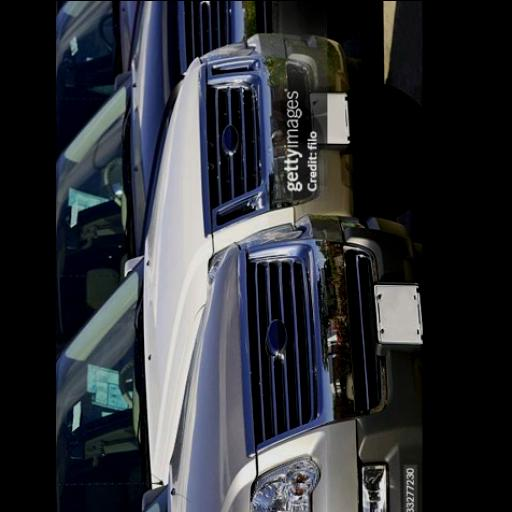car: (87, 269, 114, 302), (59, 100, 84, 114), (89, 227, 109, 241), (69, 39, 80, 55), (95, 34, 106, 47), (104, 79, 111, 96), (118, 265, 128, 275), (67, 76, 76, 85), (56, 119, 59, 124), (148, 496, 152, 498), (56, 113, 58, 116), (60, 83, 62, 85), (128, 262, 129, 262)
suv: (56, 34, 421, 512), (56, 0, 368, 349), (143, 216, 421, 512), (56, 0, 140, 155)
